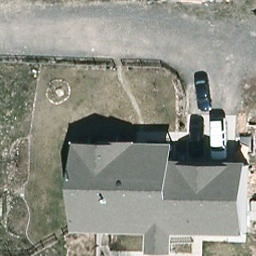car: (188, 116, 207, 158), (210, 118, 228, 160), (193, 78, 214, 111)
